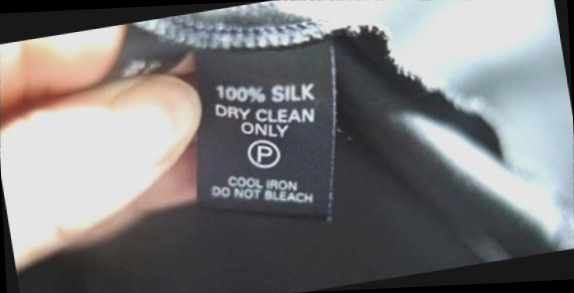dry_clean_any_solvent_except_trichloroethylene: (243, 133, 287, 174)
